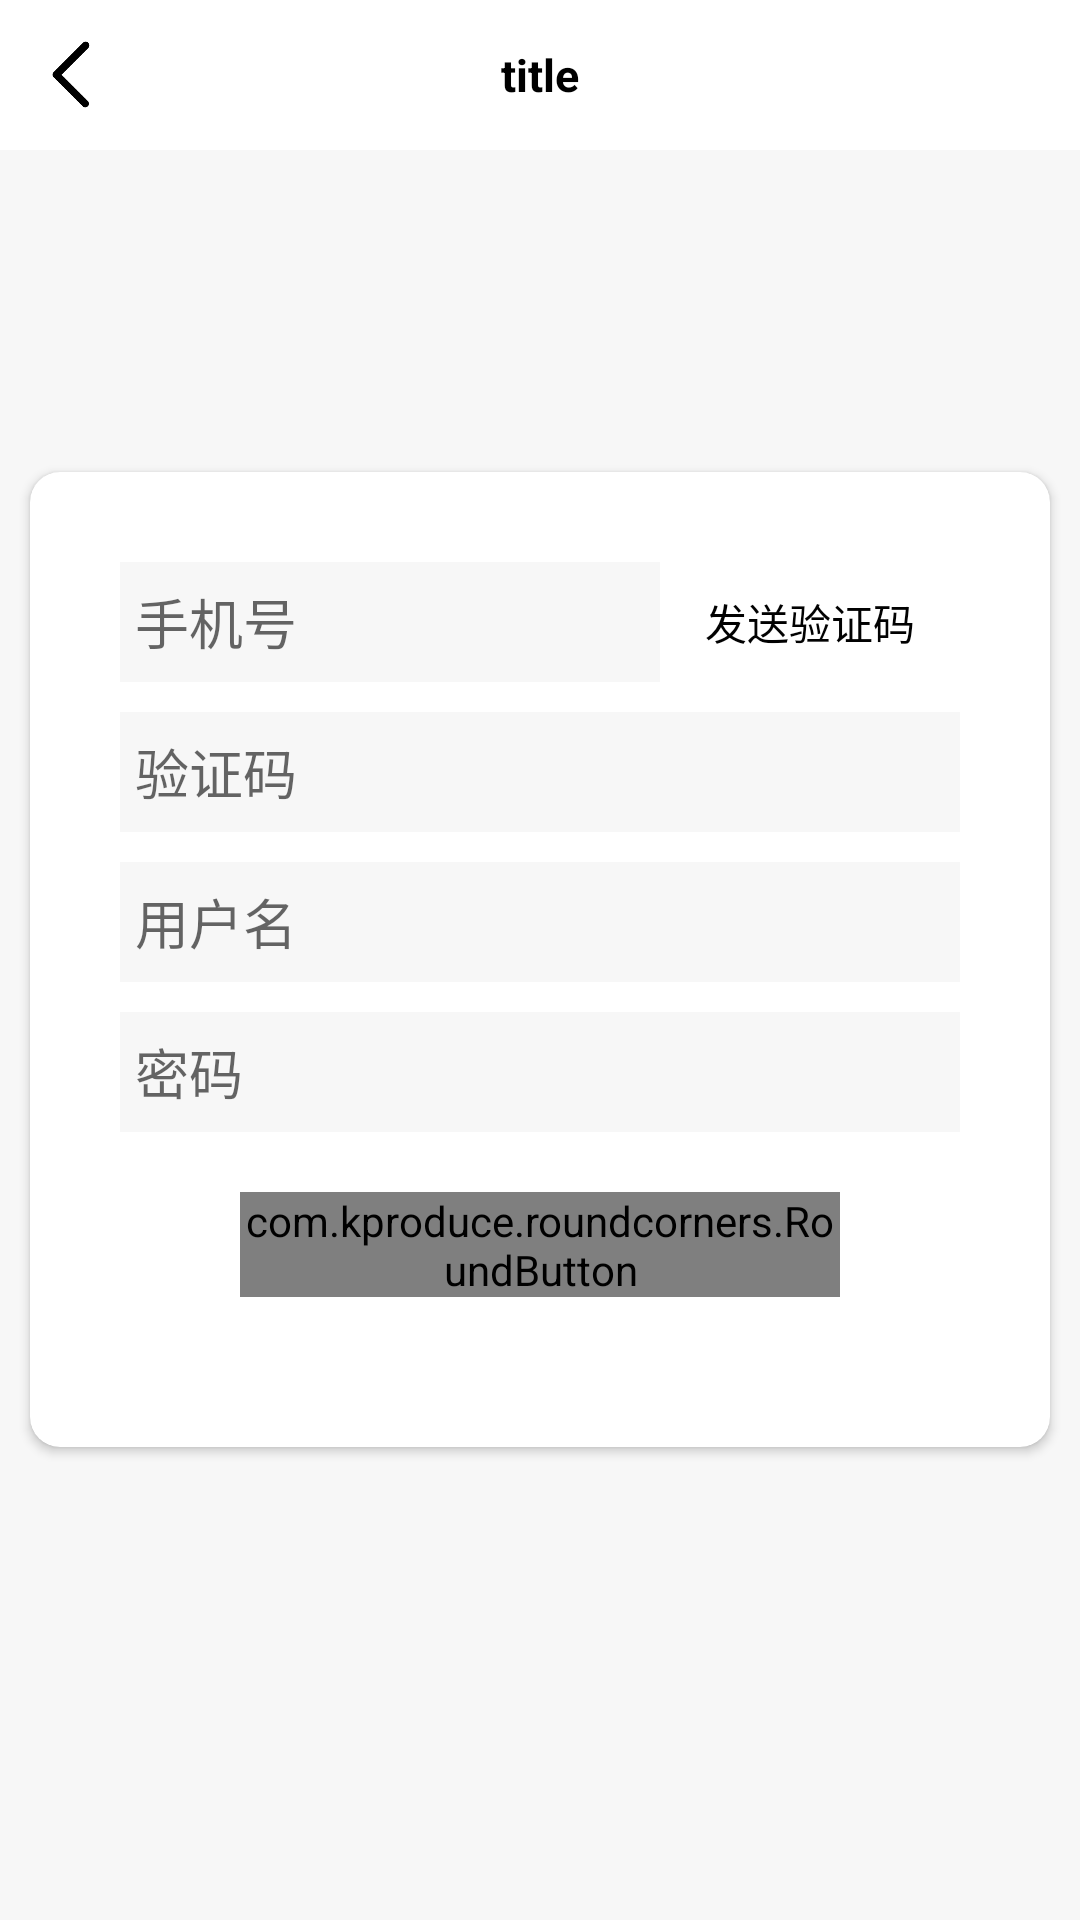

Icon bounding boxes for this 1080px×1920px phone screenshot, format (x1, y1, x2, y2):
arrow left: (52, 41, 90, 108)
